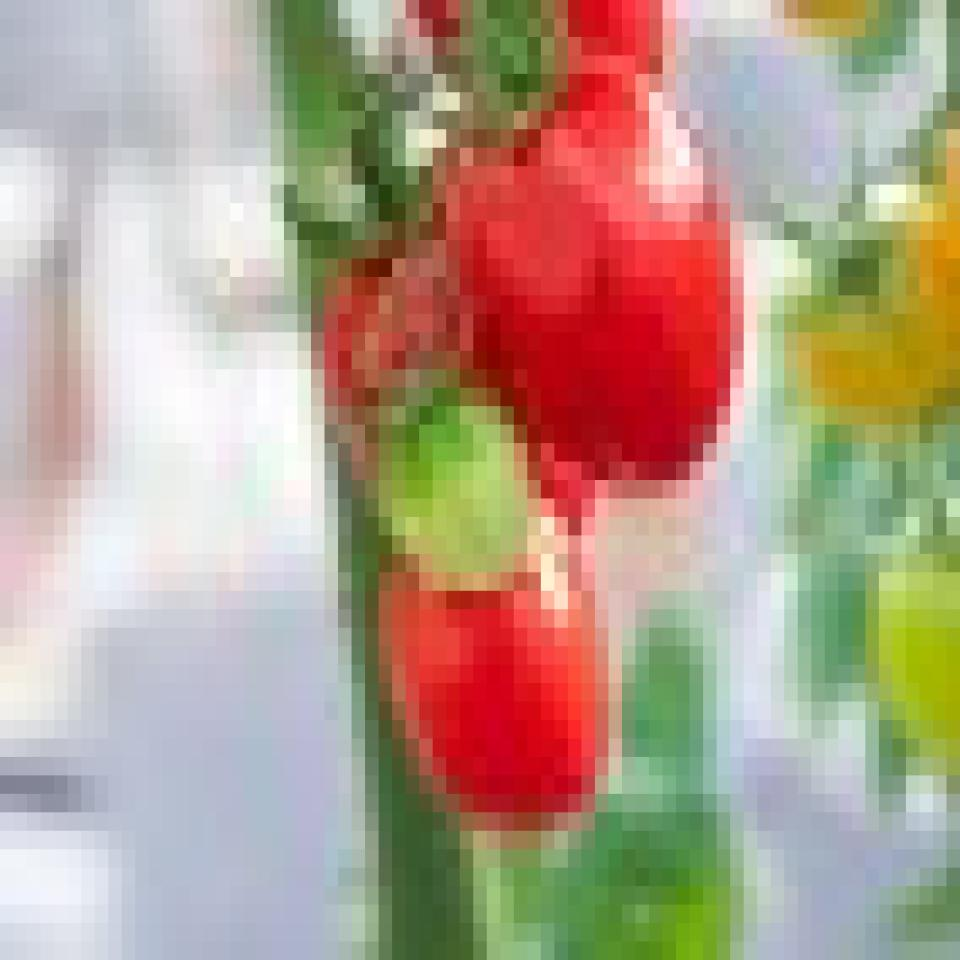Healthy: (450, 68, 784, 483), (367, 428, 667, 867)
